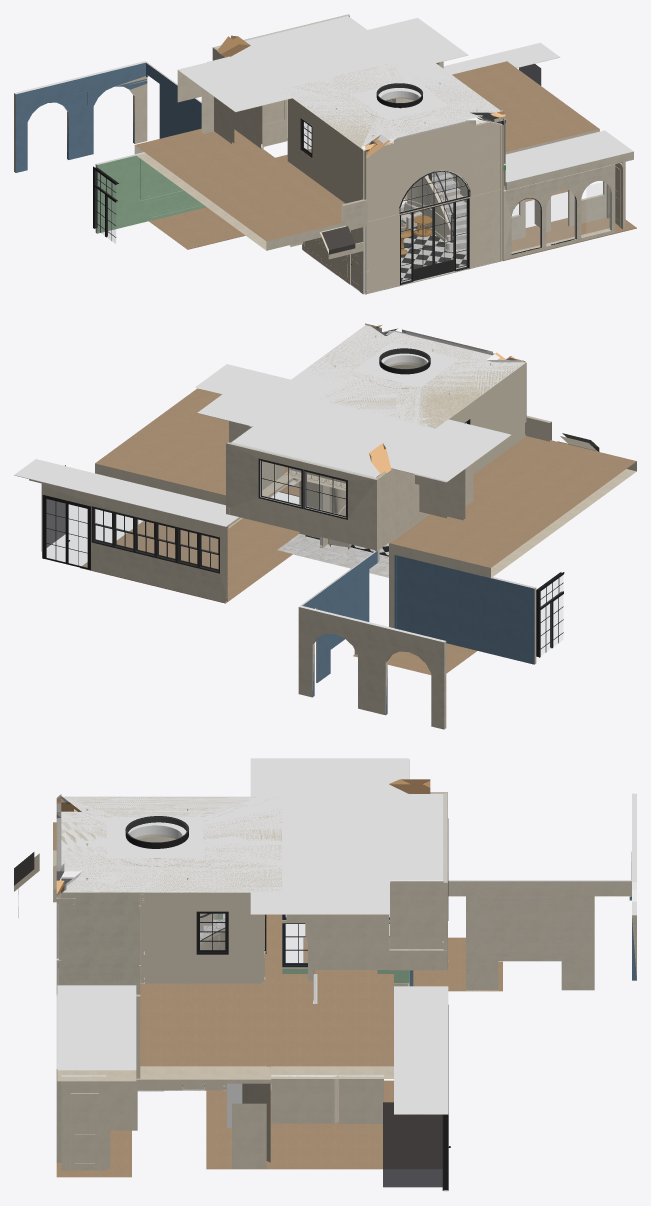
The model's file is entry-6aa3dbb7ce1e.glb.
3 views of the same model, one above another, from view 1: azimuth 30°, elevation 25°; view 2: azimuth 150°, elevation 25°; view 3: azimuth 270°, elevation 25° (orthographic). The views are drawn at different scales.
Visible parts, largest first — view 1: entry-look-2575515a05775d9e, entry-look-9d91b47435c6fb33, entry-9d91b47435c6fb33, entry-4edf3a9420c06709, entry-look-969b861f9850351e, entry-698abdfdc6fb970d, entry-look-b19b106fc304963c, entry-746250f96522f643, entry-look-dbd60ee5c3733ed6, entry-9ca48b730e5de4b2, entry-look-c9e78b9ec1bb39cd, entry-785988ccf932ddd5 (+29 smaller); view 2: entry-look-2575515a05775d9e, entry-look-9d91b47435c6fb33, entry-look-b19b106fc304963c, entry-9d91b47435c6fb33, entry-look-969b861f9850351e, entry-look-245f595ae2832e16, entry-look-3b0077416469e01b, entry-look-bfb9fa537cd11d1d, entry-e8793759323e04f0, entry-look-9a0e9ee9b2a451d7, entry-746250f96522f643, entry-look-3e6709f91b43c3bf (+16 smaller); view 3: entry-look-2575515a05775d9e, entry-look-9d91b47435c6fb33, entry-9d91b47435c6fb33, entry-look-3e6709f91b43c3bf, entry-look-3b0077416469e01b, entry-c51ecd664a3b22a3, entry-look-dbd60ee5c3733ed6, entry-look-9a0e9ee9b2a451d7, entry-e8793759323e04f0, entry-62353aa10fc57f23, entry-look-cbd4bf73d9724a66, entry-look-55ff1dfd7b659ec1 (+23 smaller).
Part boxes in pixels (x1,y1,x2,y2): entry-look-2575515a05775d9e: [134, 61, 599, 250]; entry-look-9d91b47435c6fb33: [178, 16, 468, 112]; entry-9d91b47435c6fb33: [281, 54, 500, 149]; entry-4edf3a9420c06709: [365, 120, 503, 221]; entry-look-969b861f9850351e: [14, 61, 147, 172]; entry-698abdfdc6fb970d: [400, 198, 469, 285]; entry-look-b19b106fc304963c: [95, 152, 202, 233]; entry-746250f96522f643: [287, 98, 361, 203]; entry-look-dbd60ee5c3733ed6: [505, 130, 633, 190]; entry-9ca48b730e5de4b2: [365, 189, 503, 293]; entry-look-c9e78b9ec1bb39cd: [503, 164, 615, 260]; entry-785988ccf932ddd5: [366, 118, 503, 220]; entry-look-2575515a05775d9e: [95, 388, 636, 578]; entry-look-9d91b47435c6fb33: [197, 371, 510, 481]; entry-look-b19b106fc304963c: [397, 555, 536, 664]; entry-9d91b47435c6fb33: [277, 325, 525, 427]; entry-look-969b861f9850351e: [298, 605, 446, 729]; entry-look-245f595ae2832e16: [226, 442, 377, 551]; entry-look-3b0077416469e01b: [80, 518, 476, 674]; entry-look-bfb9fa537cd11d1d: [42, 482, 227, 602]; entry-e8793759323e04f0: [307, 326, 525, 428]; entry-look-9a0e9ee9b2a451d7: [14, 459, 238, 526]; entry-746250f96522f643: [449, 363, 524, 474]; entry-look-3e6709f91b43c3bf: [302, 551, 377, 682]; entry-look-2575515a05775d9e: [53, 822, 393, 1078]; entry-look-9d91b47435c6fb33: [250, 758, 442, 914]; entry-9d91b47435c6fb33: [61, 796, 282, 892]; entry-look-3e6709f91b43c3bf: [448, 880, 631, 989]; entry-look-3b0077416469e01b: [206, 937, 502, 1169]; entry-c51ecd664a3b22a3: [145, 892, 264, 983]; entry-look-dbd60ee5c3733ed6: [57, 985, 136, 1081]; entry-look-9a0e9ee9b2a451d7: [394, 986, 448, 1114]; entry-e8793759323e04f0: [58, 794, 282, 892]; entry-62353aa10fc57f23: [61, 892, 140, 994]; entry-look-cbd4bf73d9724a66: [383, 1102, 443, 1187]; entry-look-55ff1dfd7b659ec1: [448, 880, 631, 990].
Size of the model in its own units: 21.06 by 7.01 by 18.
56 materials, 11 textured.
